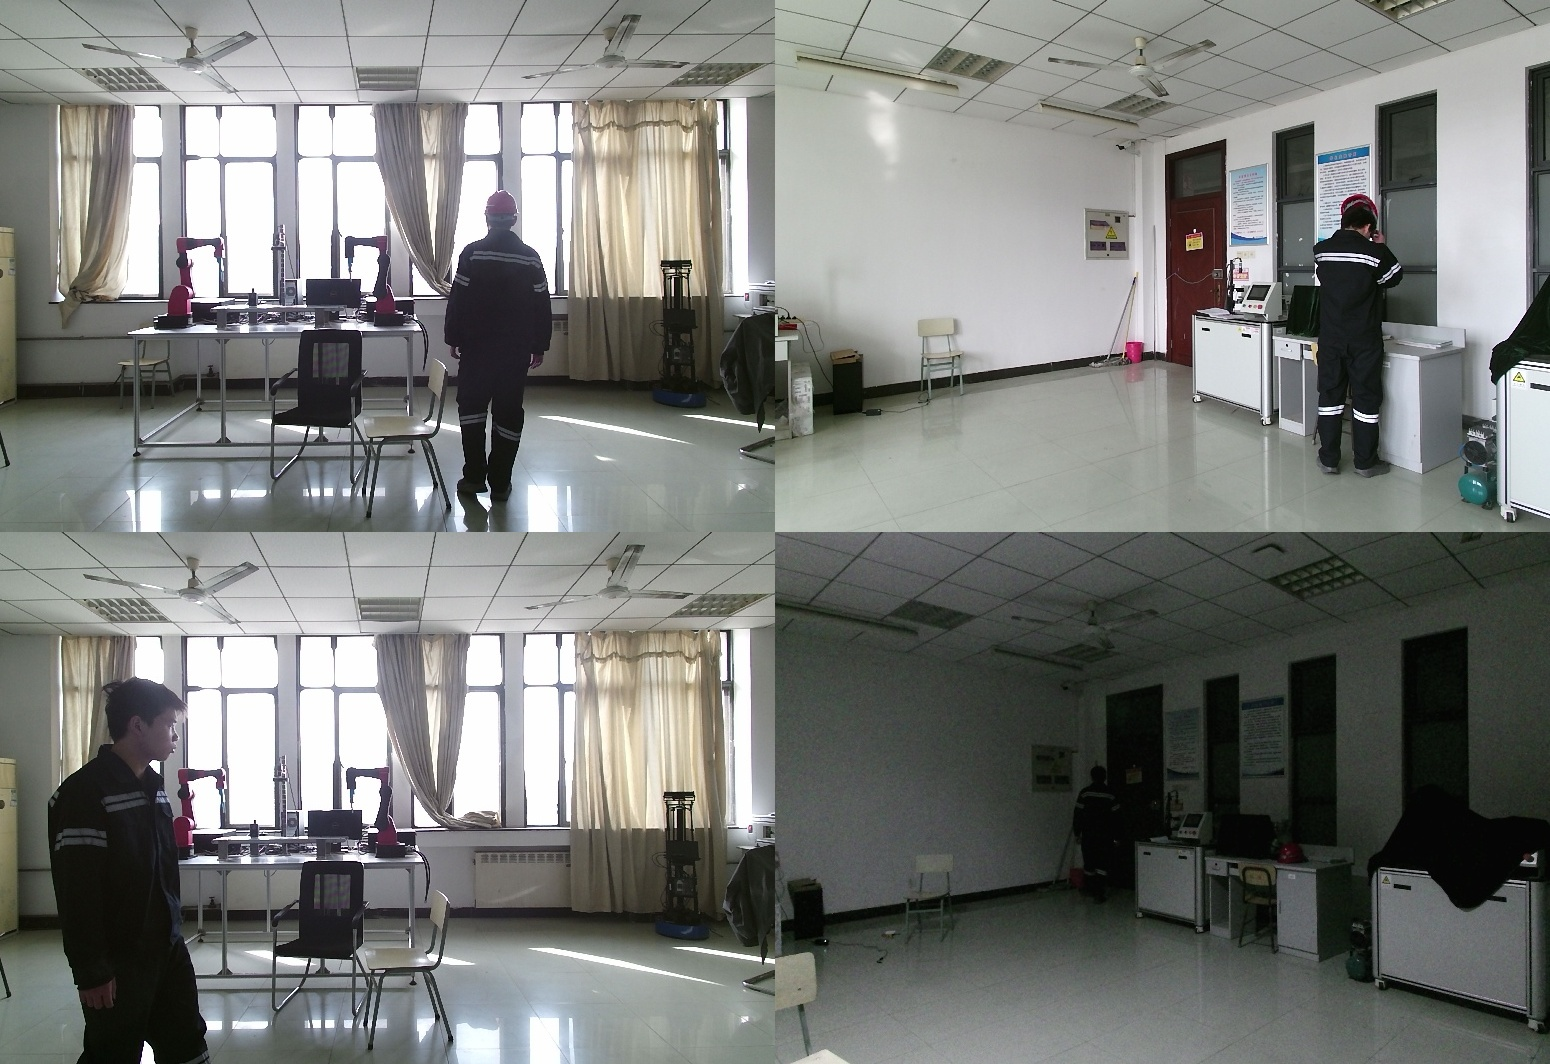person: (51, 679, 218, 1064), (448, 190, 556, 532), (1311, 199, 1425, 479), (1070, 767, 1127, 908)
